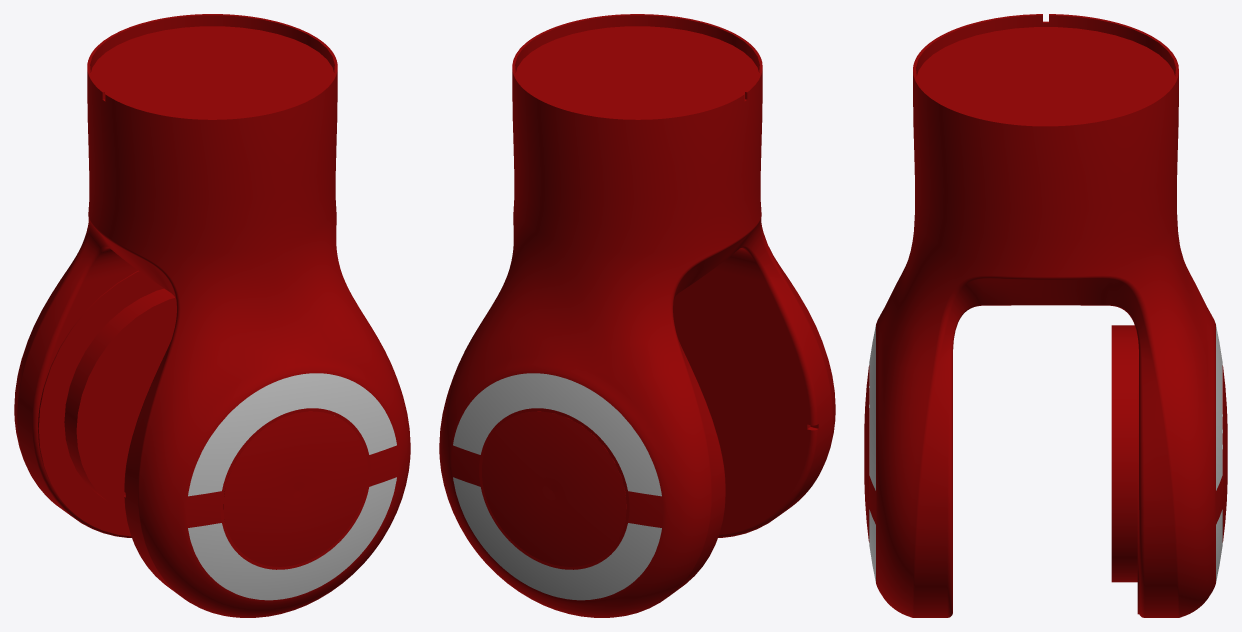
3 renders of one model, left to right at view 1: azimuth 30°, elevation 25°; view 2: azimuth 150°, elevation 25°; view 3: azimuth 270°, elevation 25°, orthographic. The views are drawn at different scales.
Parts seen in each view (by area): view 1: L_Arm_Marvin_M6-S; view 2: L_Arm_Marvin_M6-S; view 3: L_Arm_Marvin_M6-S.
Part boxes in pixels (x1,y1,x2,y2): L_Arm_Marvin_M6-S: (14, 14, 410, 617); L_Arm_Marvin_M6-S: (439, 14, 835, 617); L_Arm_Marvin_M6-S: (864, 14, 1227, 617).
Bounding box in the file's own units: 0.1155 × 0.2053 × 0.1271.
